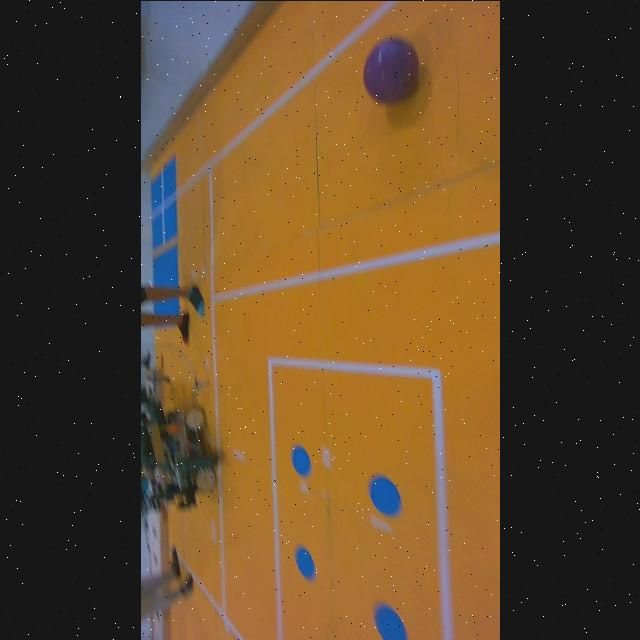P: (364, 37, 419, 103)
